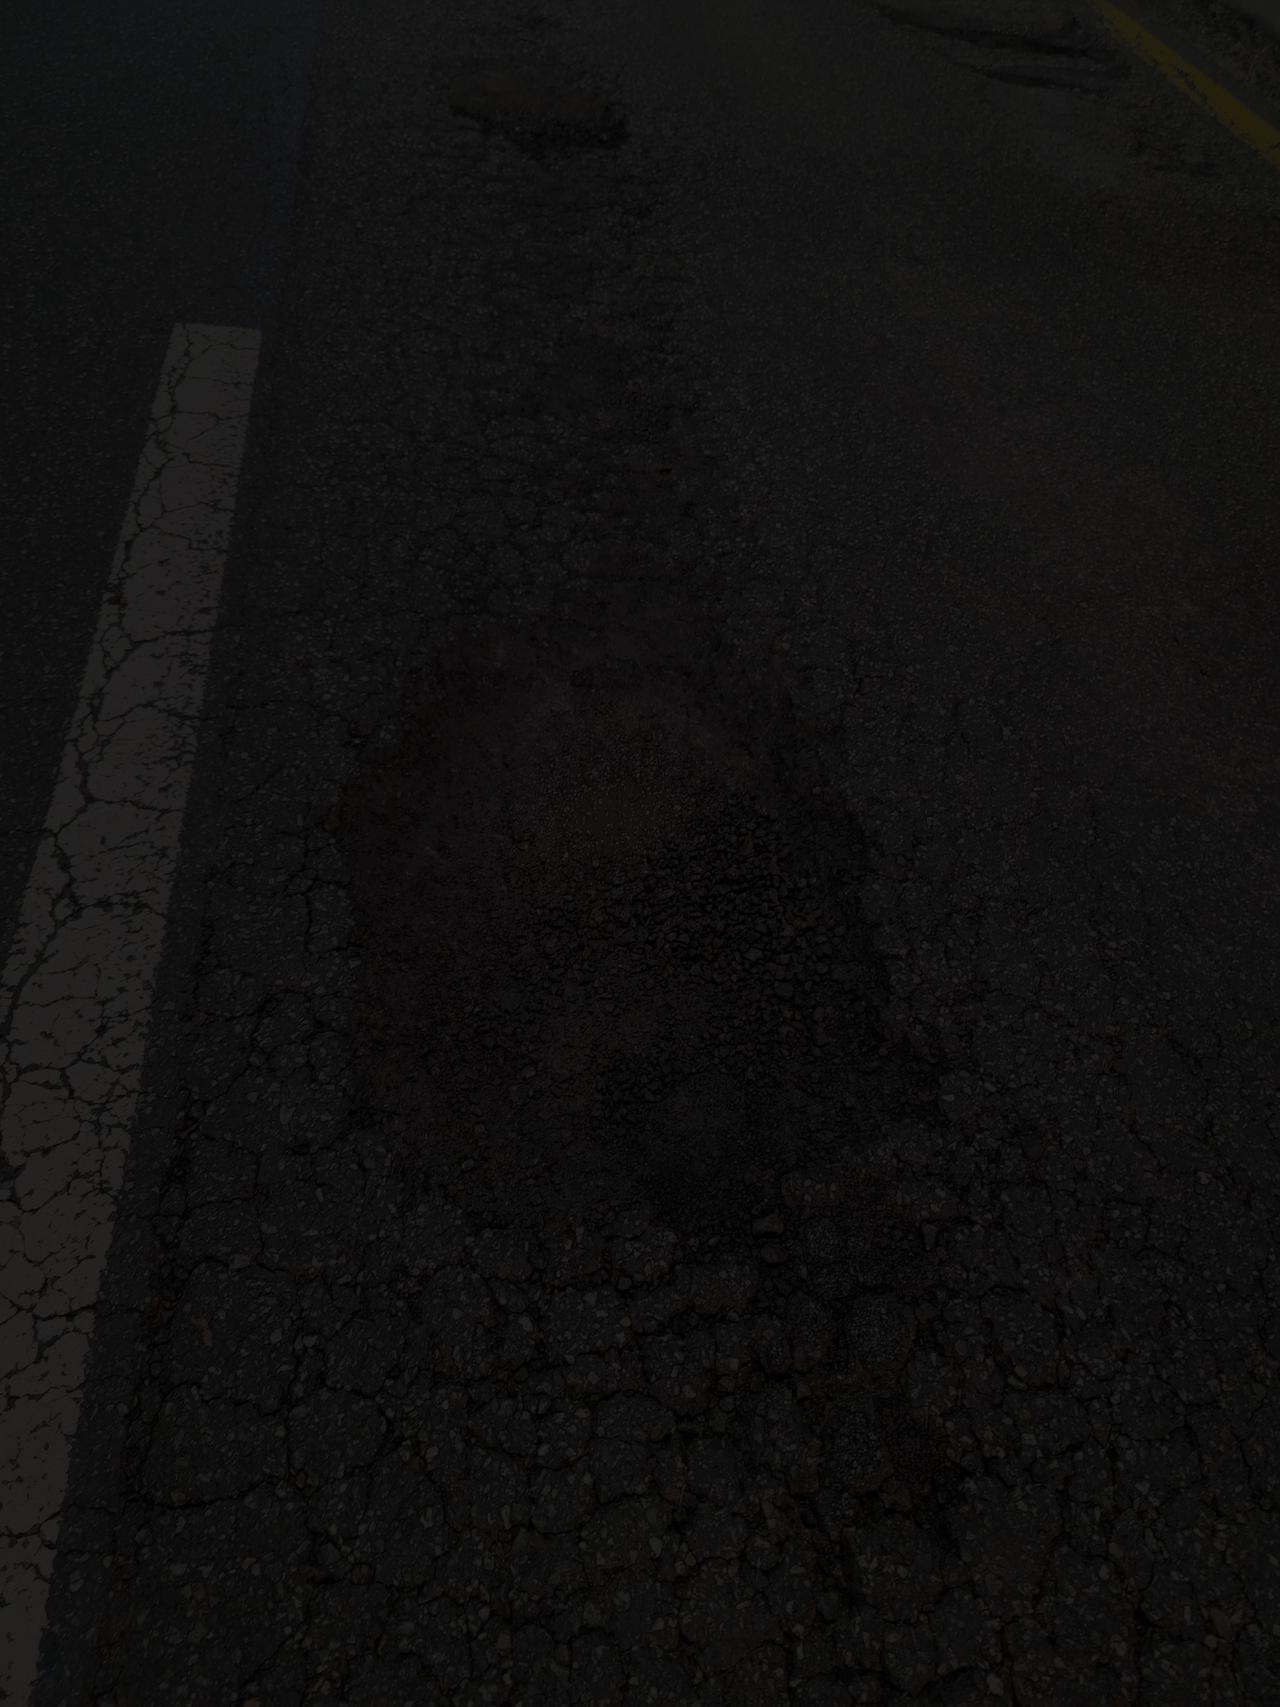pothole: (238, 445, 1068, 1306)
